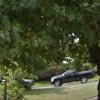Car: (39, 63, 100, 88)
